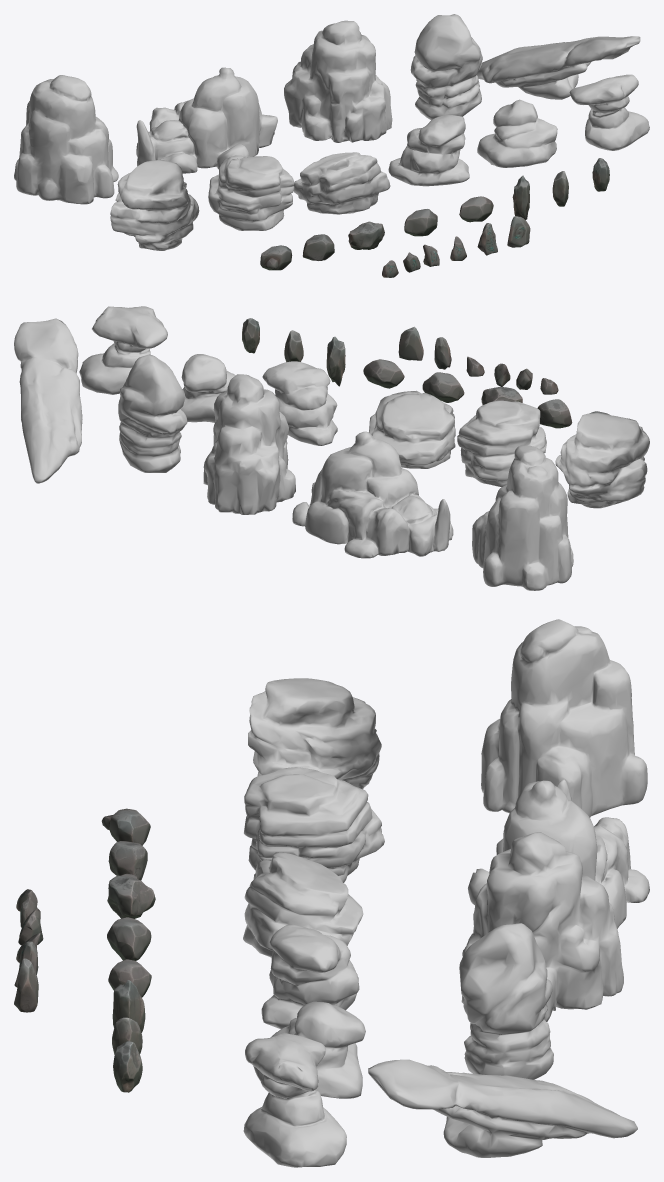
File: Rocks.fbx
3 views of the same model, one above another, from view 1: azimuth 30°, elevation 25°; view 2: azimuth 150°, elevation 25°; view 3: azimuth 270°, elevation 25° (orthographic). The views are drawn at different scales.
Visible parts, largest first — view 1: BIG_1, Big_3, Big_2, Big_4, Mid_1, Big_5, Mid_2, Mid_3, Mid_4.001, Mid_5, Mid_4, Small_3 (+9 smaller); view 2: Big_2, BIG_1, Big_3, Big_5, Mid_1, Big_4, Mid_2, Mid_3, Mid_5, Mid_4.001, Mid_4, Small_4 (+8 smaller); view 3: BIG_1, Big_3, Big_5, Big_4, Mid_2, Mid_1, Mid_5, Big_2, Mid_3, Mid_4.001, Mid_4, Small_3 (+8 smaller).
Boxes of the visible parts, left/top/right/bottom form: BIG_1: left=14, top=75, right=118, bottom=204; Big_3: left=284, top=20, right=392, bottom=142; Big_2: left=136, top=67, right=277, bottom=173; Big_4: left=410, top=14, right=482, bottom=119; Mid_1: left=110, top=159, right=199, bottom=250; Big_5: left=477, top=36, right=640, bottom=99; Mid_2: left=208, top=155, right=294, bottom=230; Mid_3: left=293, top=152, right=390, bottom=214; Mid_4.001: left=388, top=114, right=469, bottom=186; Mid_5: left=569, top=74, right=649, bottom=150; Mid_4: left=477, top=99, right=557, bottom=167; Small_3: left=348, top=221, right=384, bottom=249; Big_2: left=292, top=431, right=453, bottom=558; BIG_1: left=472, top=445, right=573, bottom=590; Big_3: left=203, top=374, right=295, bottom=514; Big_5: left=14, top=318, right=82, bottom=483; Mid_1: left=555, top=413, right=649, bottom=508; Big_4: left=118, top=354, right=187, bottom=472; Mid_2: left=457, top=400, right=546, bottom=487; Mid_3: left=369, top=390, right=455, bottom=468; Mid_5: left=79, top=306, right=167, bottom=394; Mid_4.001: left=262, top=361, right=337, bottom=445; Mid_4: left=180, top=354, right=235, bottom=422; Small_4: left=422, top=372, right=464, bottom=402; BIG_1: left=481, top=619, right=647, bottom=817; Big_3: left=461, top=832, right=623, bottom=1021; Big_5: left=368, top=1059, right=637, bottom=1157; Big_4: left=459, top=923, right=553, bottom=1079; Mid_2: left=244, top=767, right=384, bottom=882; Mid_1: left=248, top=678, right=381, bottom=789; Mid_5: left=243, top=1033, right=346, bottom=1167; Big_2: left=468, top=779, right=649, bottom=928; Mid_3: left=243, top=852, right=363, bottom=957; Mid_4.001: left=261, top=924, right=359, bottom=1028; Mid_4: left=253, top=1001, right=365, bottom=1098; Small_3: left=107, top=873, right=155, bottom=918.
Bounding box in the file's own units: 3010 × 614 × 1897.
